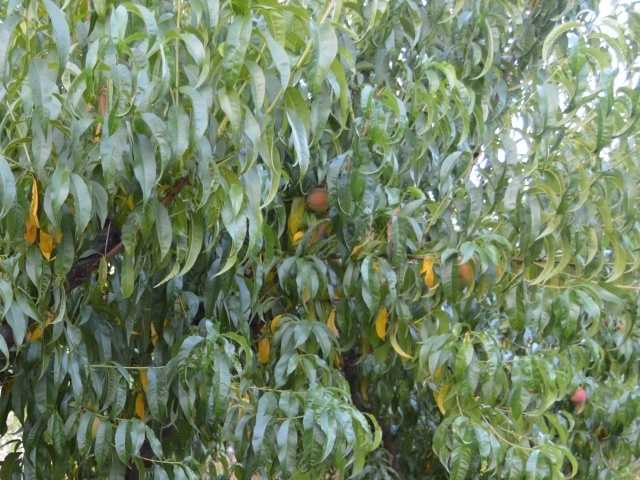peach: (304, 184, 335, 215), (566, 383, 590, 407)
